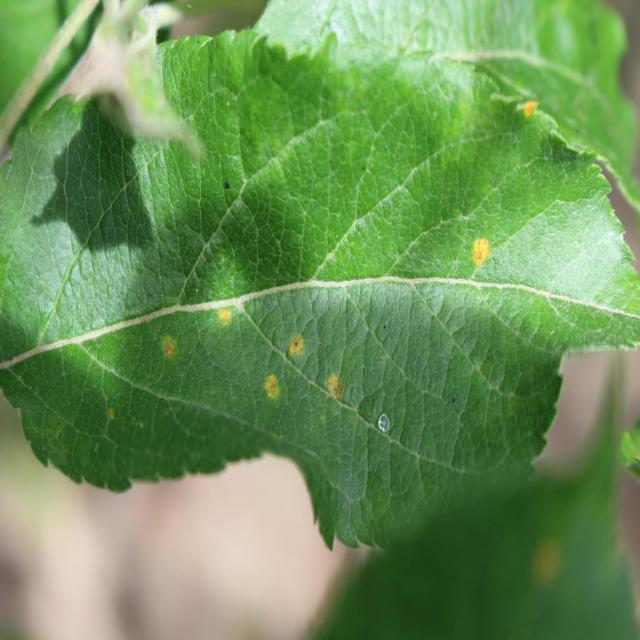Rust: (323, 372, 346, 407), (262, 369, 282, 403), (158, 332, 180, 362), (471, 236, 491, 266), (288, 333, 308, 360), (523, 96, 542, 124), (217, 302, 232, 329), (103, 403, 115, 422)
